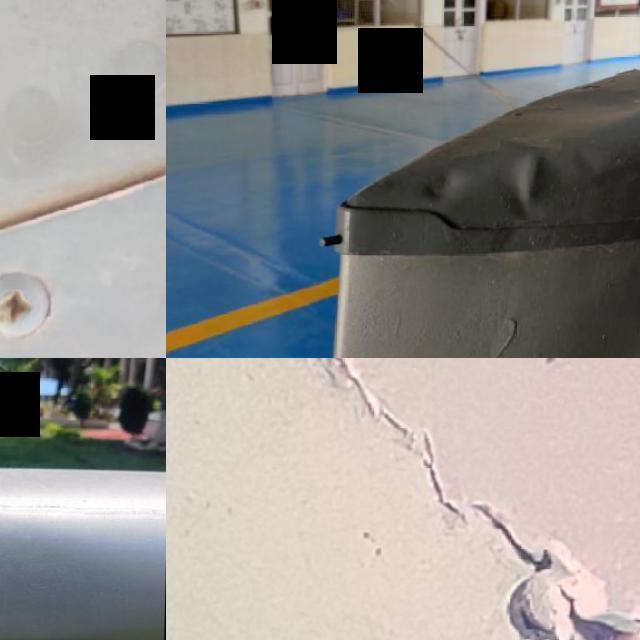Crack: (219, 358, 640, 640)
Dent: (501, 138, 564, 220), (413, 154, 476, 217)
